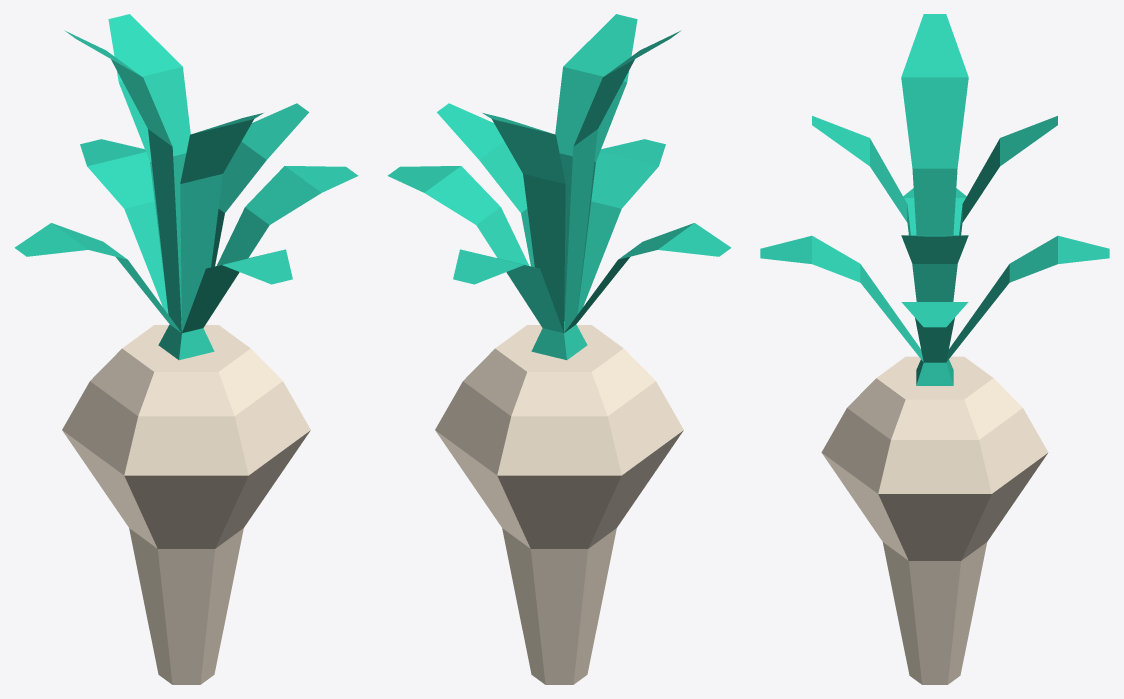
Rendered from crop-turnip.glb.
3 views of the same model, side by side, from view 1: azimuth 30°, elevation 25°; view 2: azimuth 150°, elevation 25°; view 3: azimuth 270°, elevation 25° (orthographic). The views are drawn at different scales.
Visible parts, largest first — view 1: crop_turnip; view 2: crop_turnip; view 3: crop_turnip.
Boxes of the visible parts, box(x1,y1,x2,y2) form: crop_turnip: box(14, 14, 358, 684); crop_turnip: box(387, 14, 731, 684); crop_turnip: box(760, 14, 1109, 684).
Bounding box in the file's own units: 0.3431 × 0.6607 × 0.3431.
